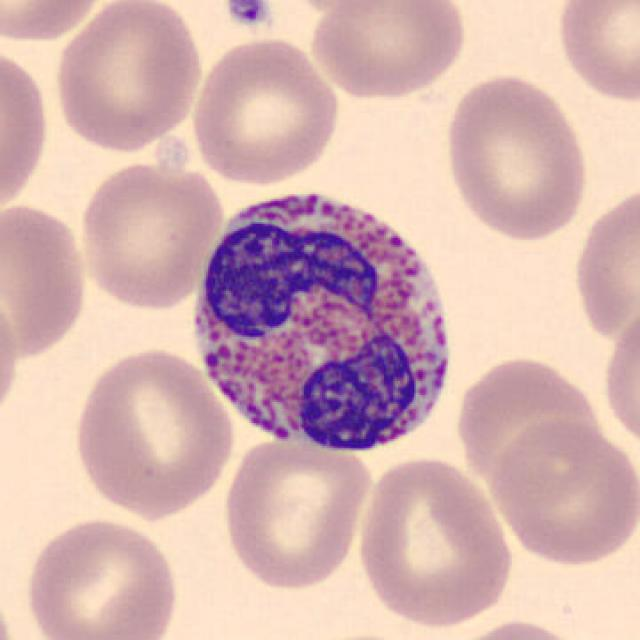Eosinophil: (182, 170, 469, 466)
Platelets: (222, 0, 274, 30)
RBC: (70, 344, 238, 522), (354, 453, 517, 630), (439, 69, 594, 243), (219, 432, 375, 592), (50, 0, 206, 155), (187, 35, 343, 187), (75, 155, 224, 312), (486, 416, 636, 570), (450, 354, 604, 496), (21, 513, 183, 640), (305, 0, 471, 102), (0, 197, 92, 361), (569, 176, 638, 351), (0, 40, 53, 218), (551, 0, 638, 106), (599, 298, 640, 455), (0, 0, 117, 46), (0, 280, 25, 432), (443, 615, 592, 640), (0, 573, 25, 640), (266, 0, 396, 12)
